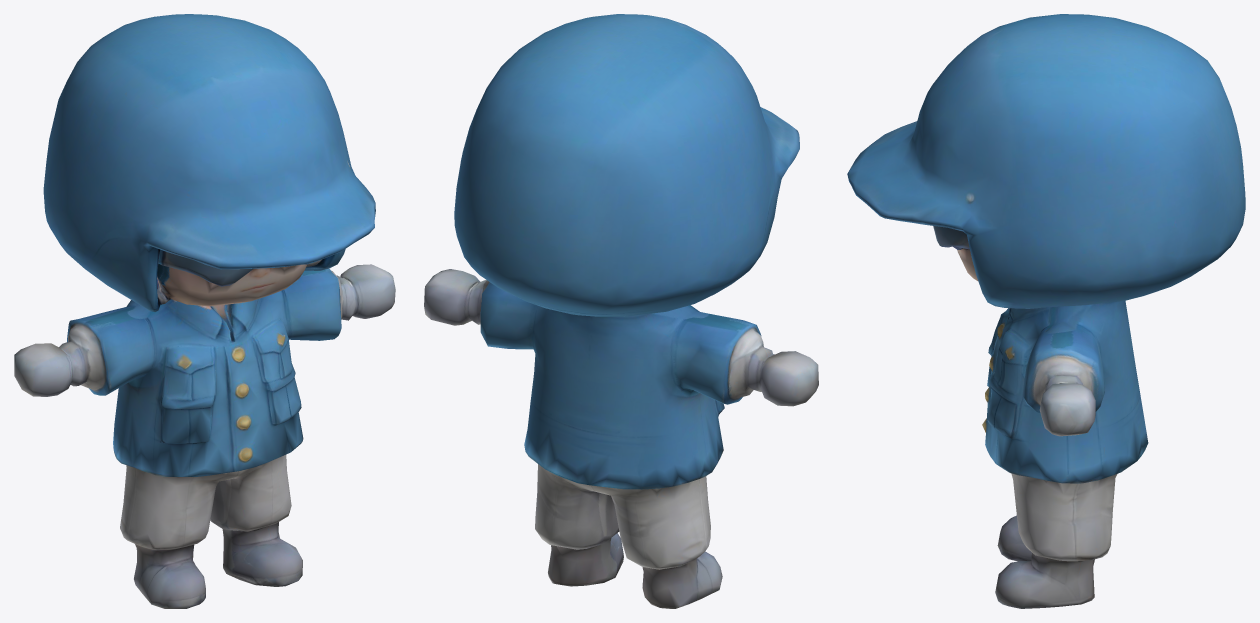
File: Low_poly_stylized_sol_1028213834_texture.glb
3 views of the same model, side by side, from view 1: azimuth 30°, elevation 25°; view 2: azimuth 150°, elevation 25°; view 3: azimuth 270°, elevation 25° (orthographic). The views are drawn at different scales.
Visible parts, largest first — view 1: Mesh1.0; view 2: Mesh1.0; view 3: Mesh1.0.
Boxes of the visible parts, x1=… form: Mesh1.0: x1=14, y1=14, x2=395, y2=608; Mesh1.0: x1=424, y1=14, x2=818, y2=608; Mesh1.0: x1=847, y1=14, x2=1245, y2=608.
Bounding box in the file's own units: 1.45 × 2.01 × 1.34.
1 material, 1 textured.
